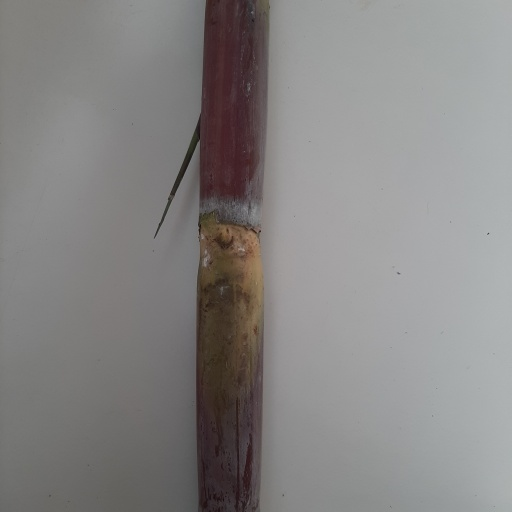Bud: (215, 227, 237, 253)
